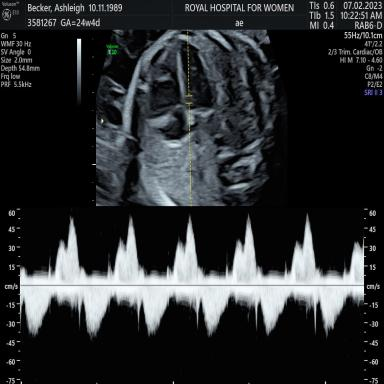Ultrasound-Waves: (24, 210, 362, 384)
